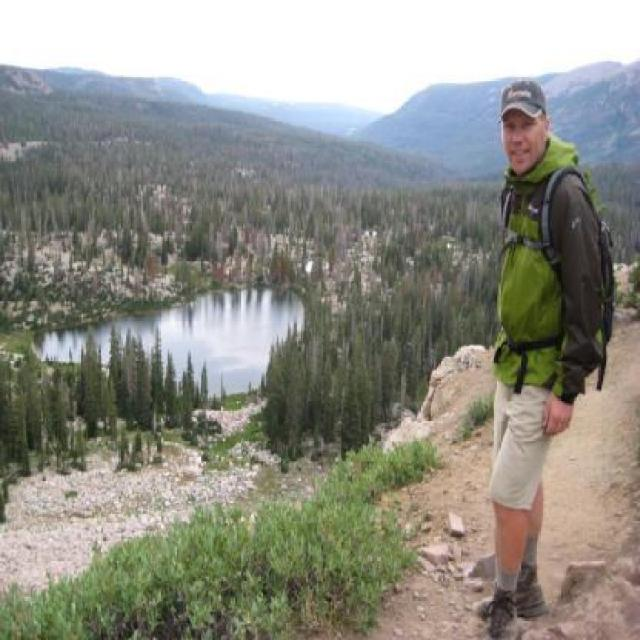backpack: (592, 216, 620, 370), (538, 163, 560, 268), (500, 182, 512, 236)
